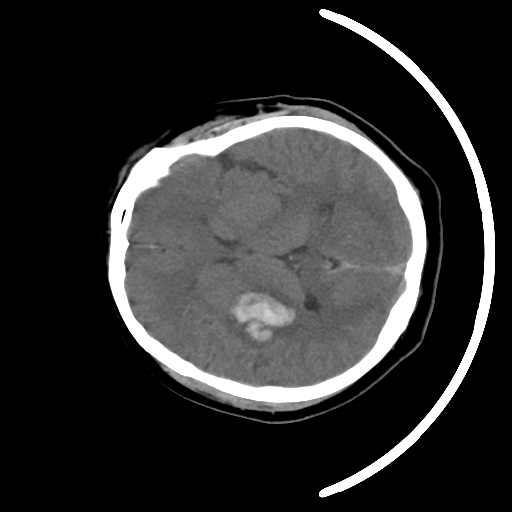a: (214, 272, 312, 362)
